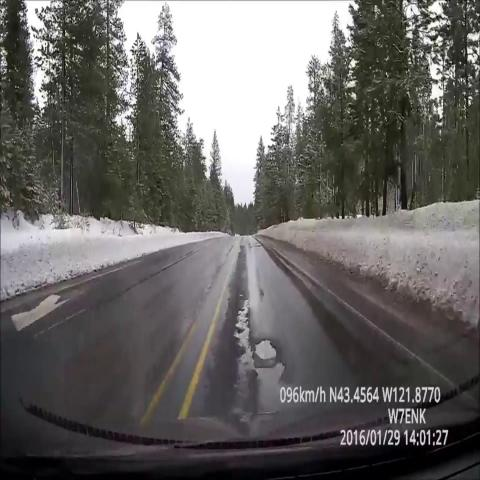pothole: (214, 294, 296, 420), (252, 233, 268, 261)
